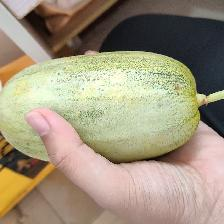gua: (37, 51, 201, 149)
